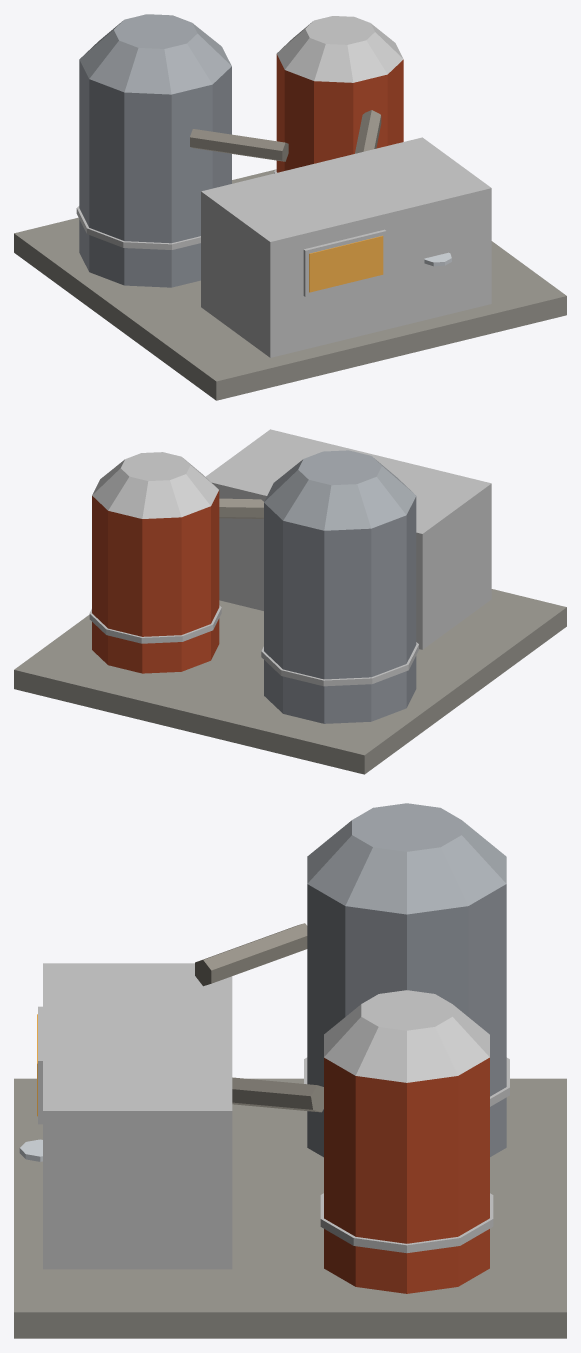
Rendered from biofuel_refinery.obj.
3 renders of one model, top to bottom at view 1: azimuth 30°, elevation 25°; view 2: azimuth 150°, elevation 25°; view 3: azimuth 270°, elevation 25°, orthographic. The views are drawn at different scales.
Visible parts, largest first — view 1: biofuel_refinery; view 2: biofuel_refinery; view 3: biofuel_refinery.
Boxes of the visible parts, x1=… form: biofuel_refinery: x1=14, y1=14, x2=566, y2=400; biofuel_refinery: x1=14, y1=429, x2=566, y2=774; biofuel_refinery: x1=14, y1=803, x2=566, y2=1338.
Bounding box in the file's own units: 1.9 × 1.26 × 1.9.
